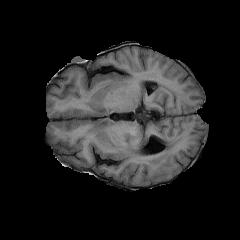glioma: (123, 133, 178, 168)
